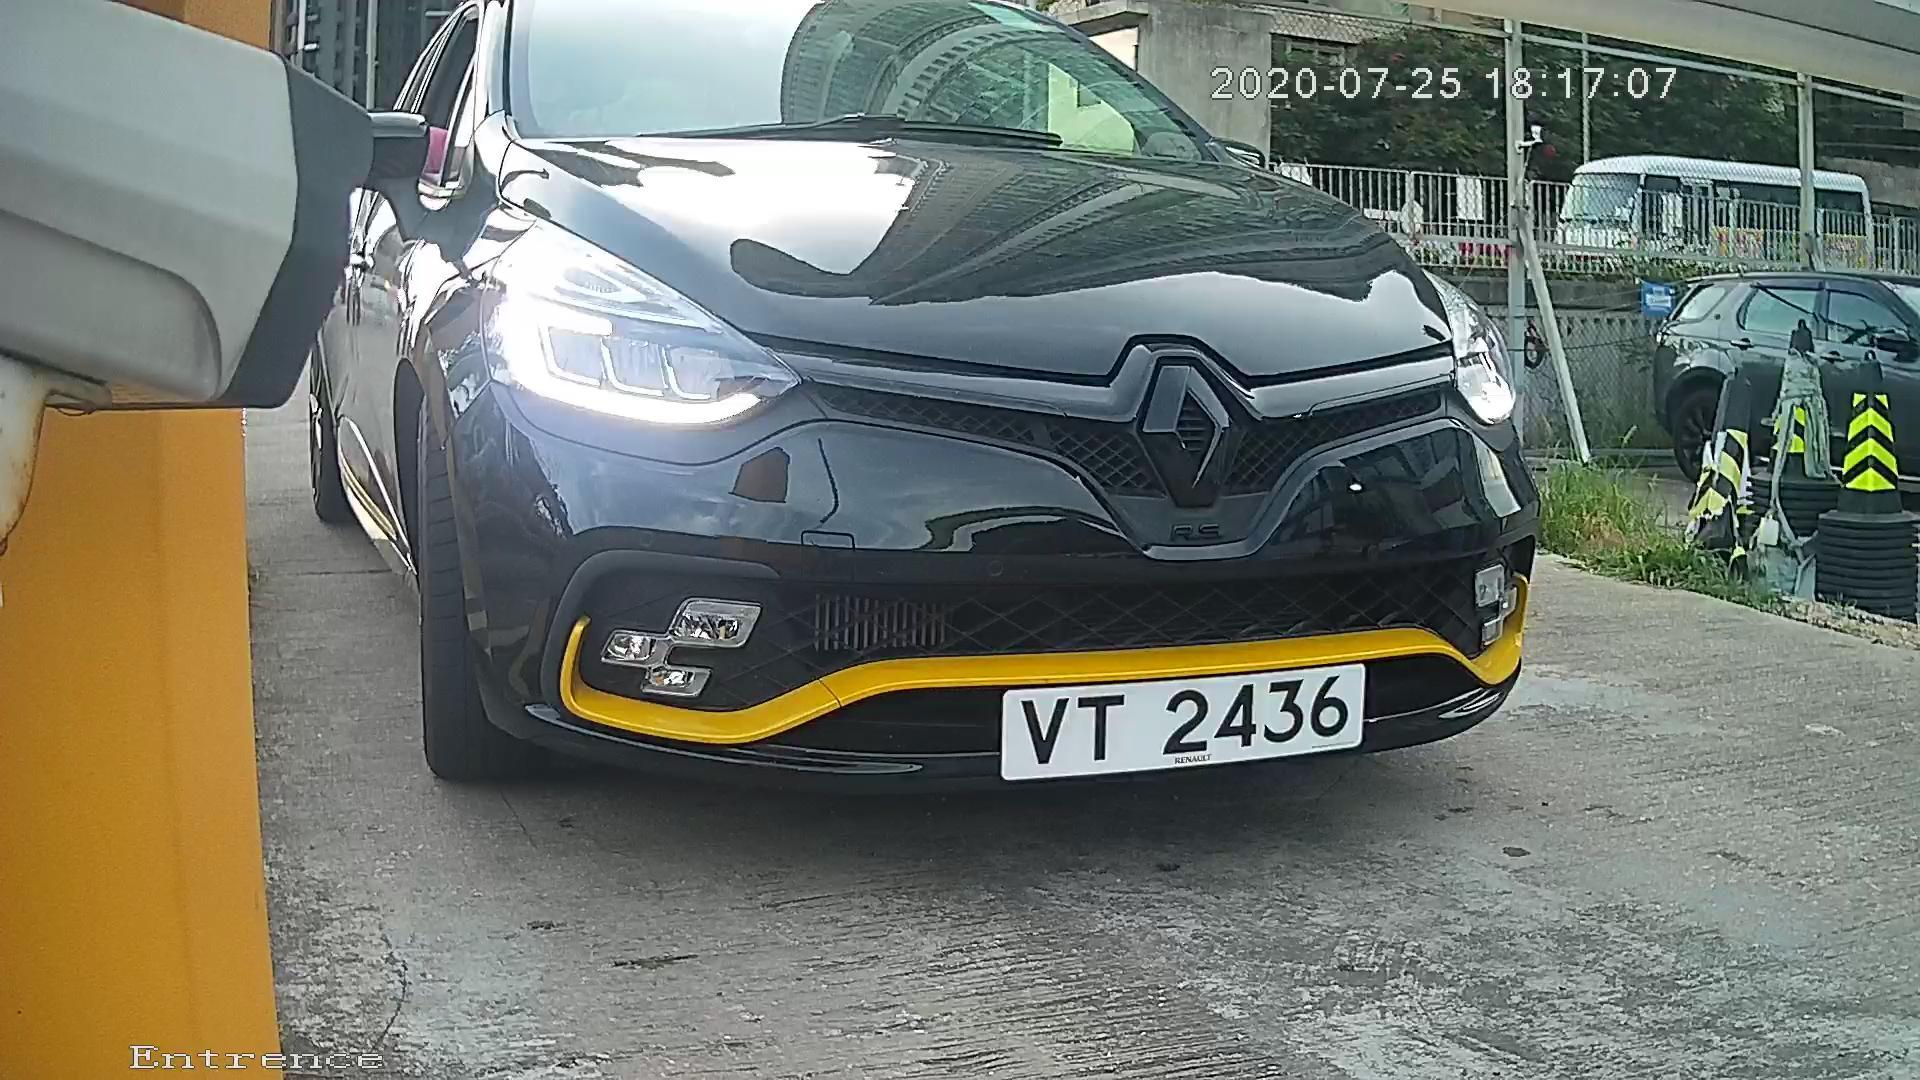privatecar: (249, 34, 1749, 849)
